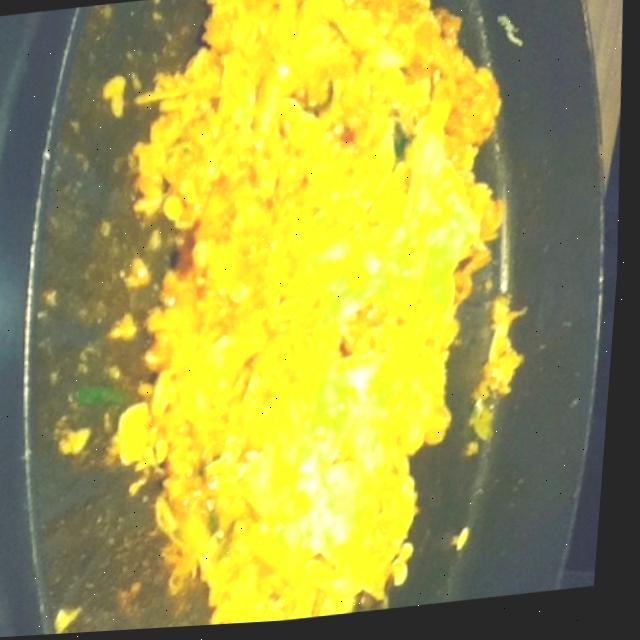鸡肉料理 含炸鸡: (9, 0, 614, 638)
